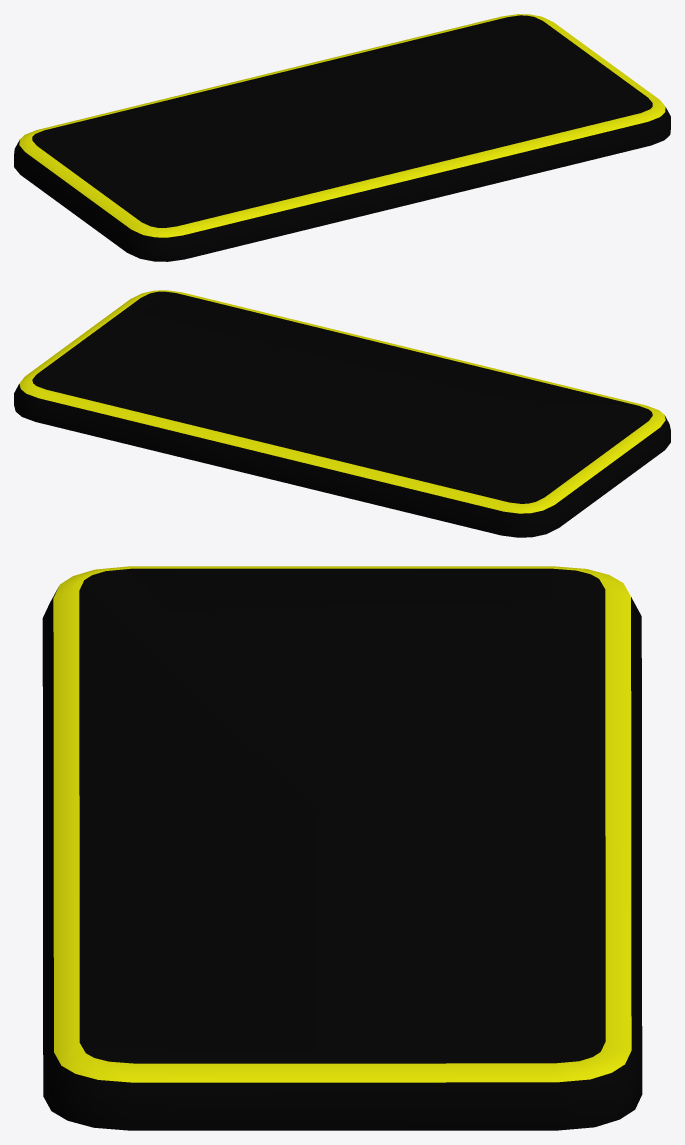
The model's file is ButtonSimple.fbx.
3 views of the same model, one above another, from view 1: azimuth 30°, elevation 25°; view 2: azimuth 150°, elevation 25°; view 3: azimuth 270°, elevation 25° (orthographic). The views are drawn at different scales.
Parts seen in each view (by area): view 1: Button3D; view 2: Button3D; view 3: Button3D.
Boxes of the visible parts, x1,y1,x2,y2 form: Button3D: (14,14,670,261); Button3D: (14,290,670,537); Button3D: (42,566,642,1130).
Size of the model in its own units: 0.503 by 0.0233 by 0.2426.
